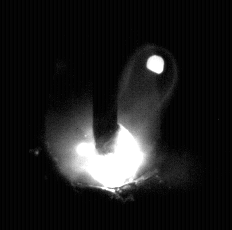arame: (93, 0, 119, 154)
poca: (47, 0, 156, 230)
